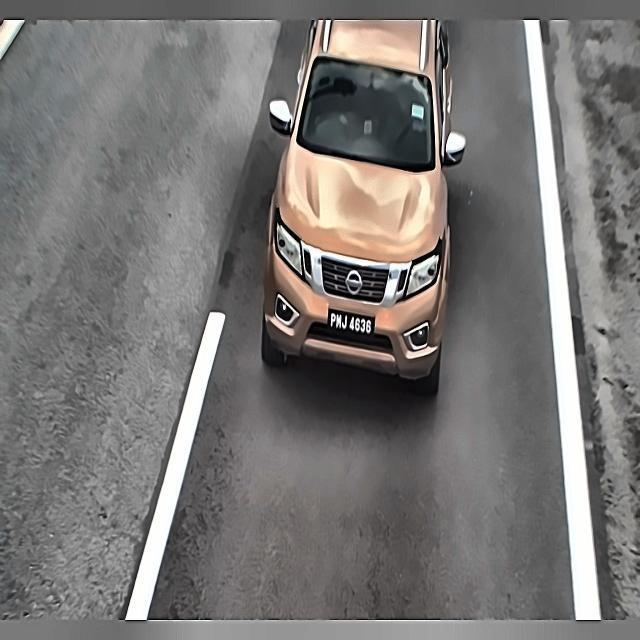car: (322, 302, 387, 346)
